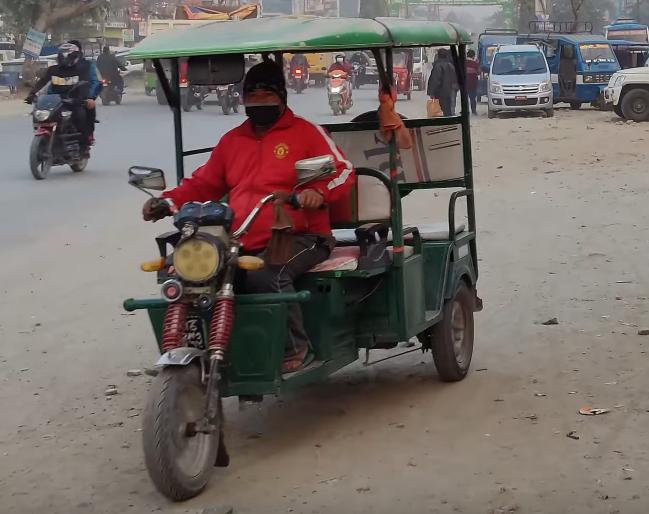bike: (21, 80, 99, 185)
car: (487, 43, 557, 121)
e-rickshaw: (119, 8, 479, 505)
scooter: (322, 69, 355, 116)
